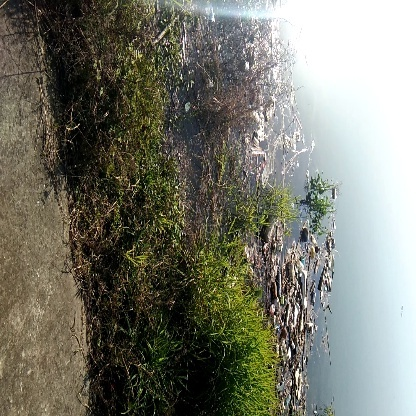grass: (207, 264, 275, 416)
